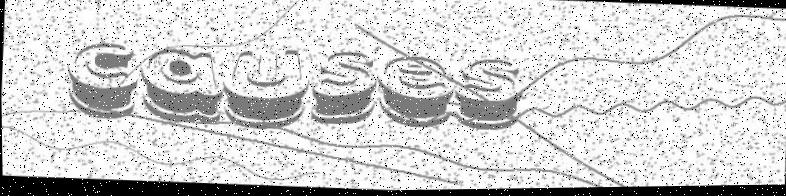a: (139, 45, 225, 125)
c: (64, 39, 141, 123)
e: (375, 54, 456, 133)
s: (452, 57, 525, 134), (309, 51, 379, 128)
u: (220, 48, 311, 132)
